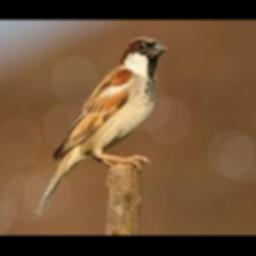Sparrow: (35, 36, 168, 216)
